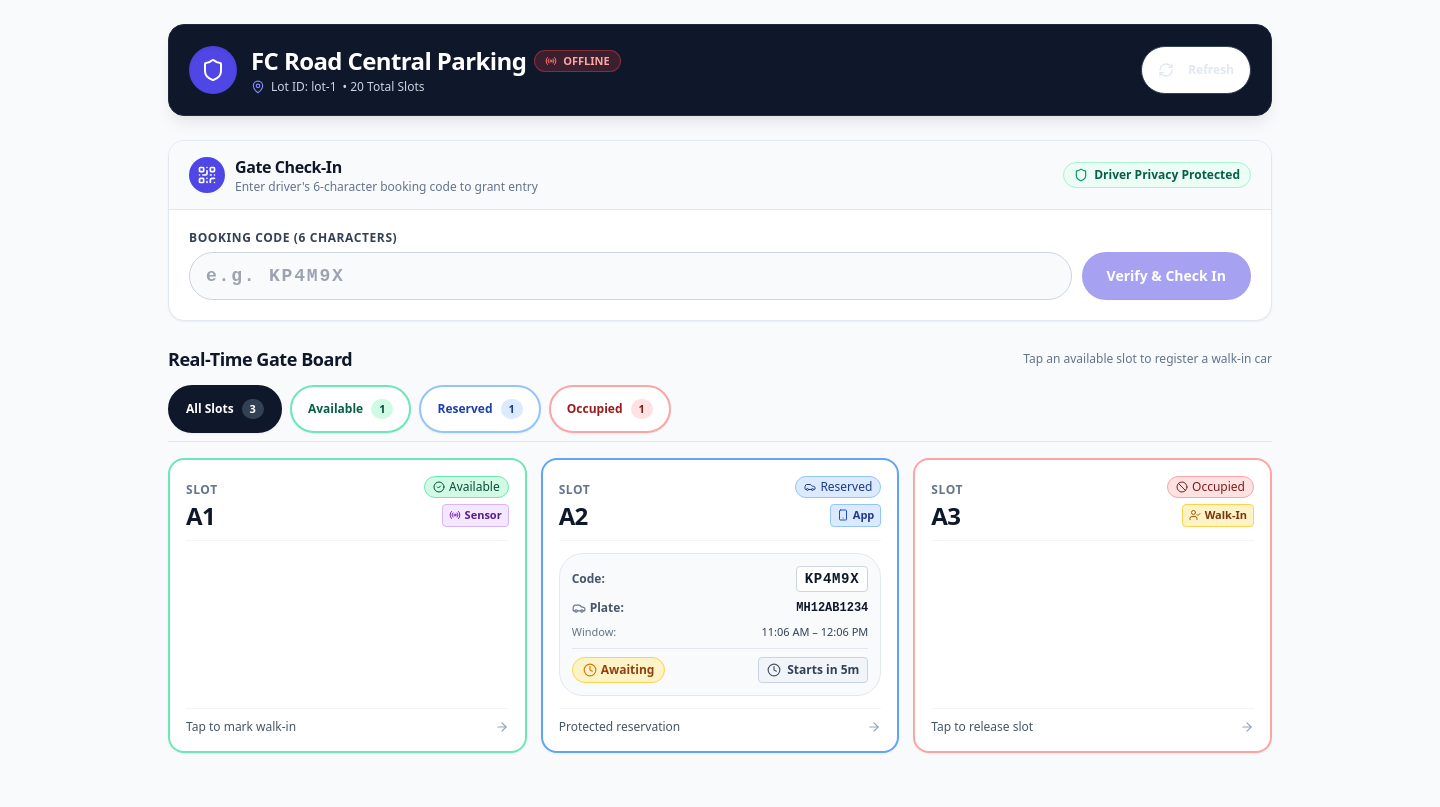
Test: Guard Console UI Suite (Stage 6) › displays 409 error when booking is already checked in or ineligible
Check: the heading "FC Road Central Parking" is shown, box [251,45,526,77]
Type "KP4M9X" into the field labelled "Booking Code (6 Characters)". click: (630, 276)
box: [189,252,1072,300]
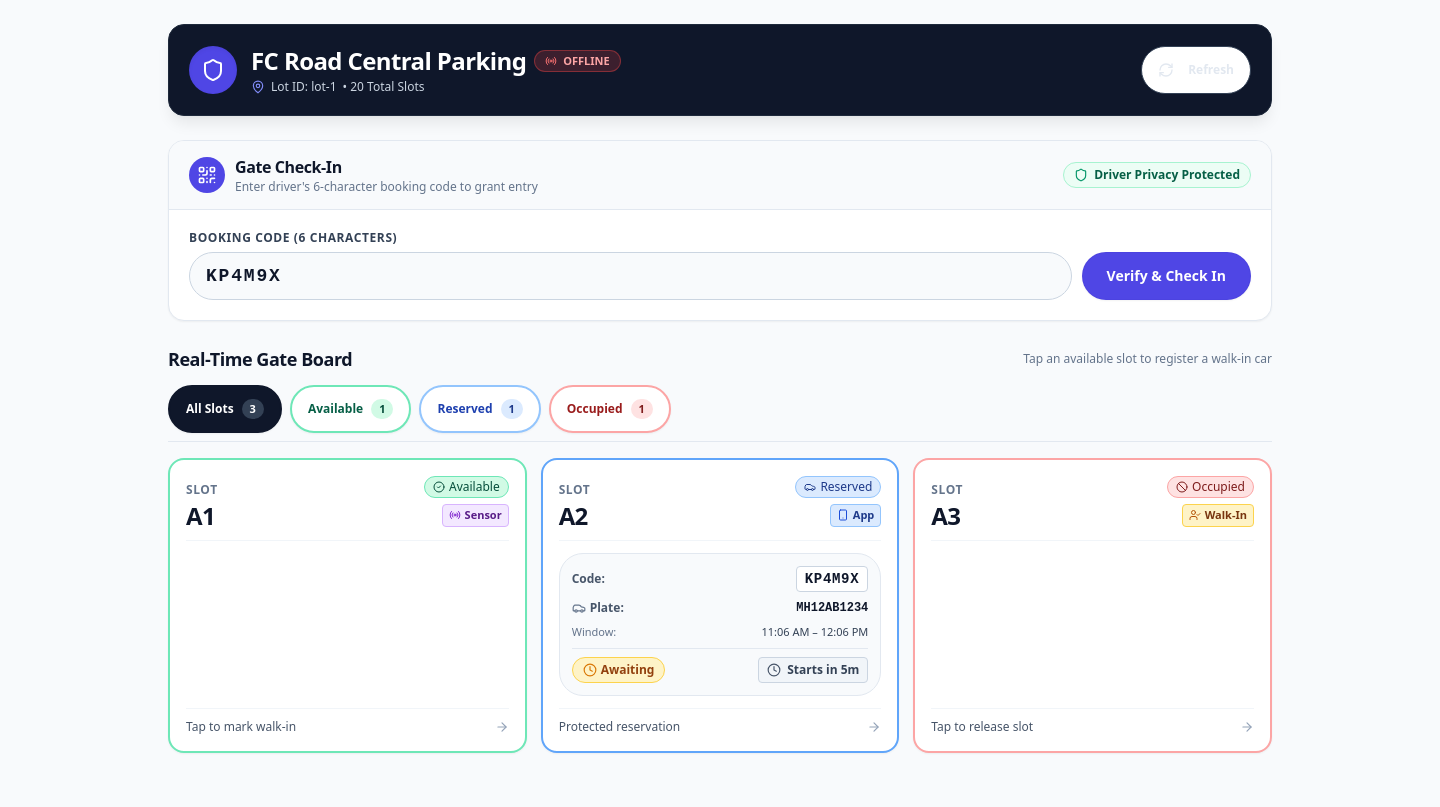
Click the button "Verify & Check In". click: click(1166, 276)
box: [1082,252,1251,300]
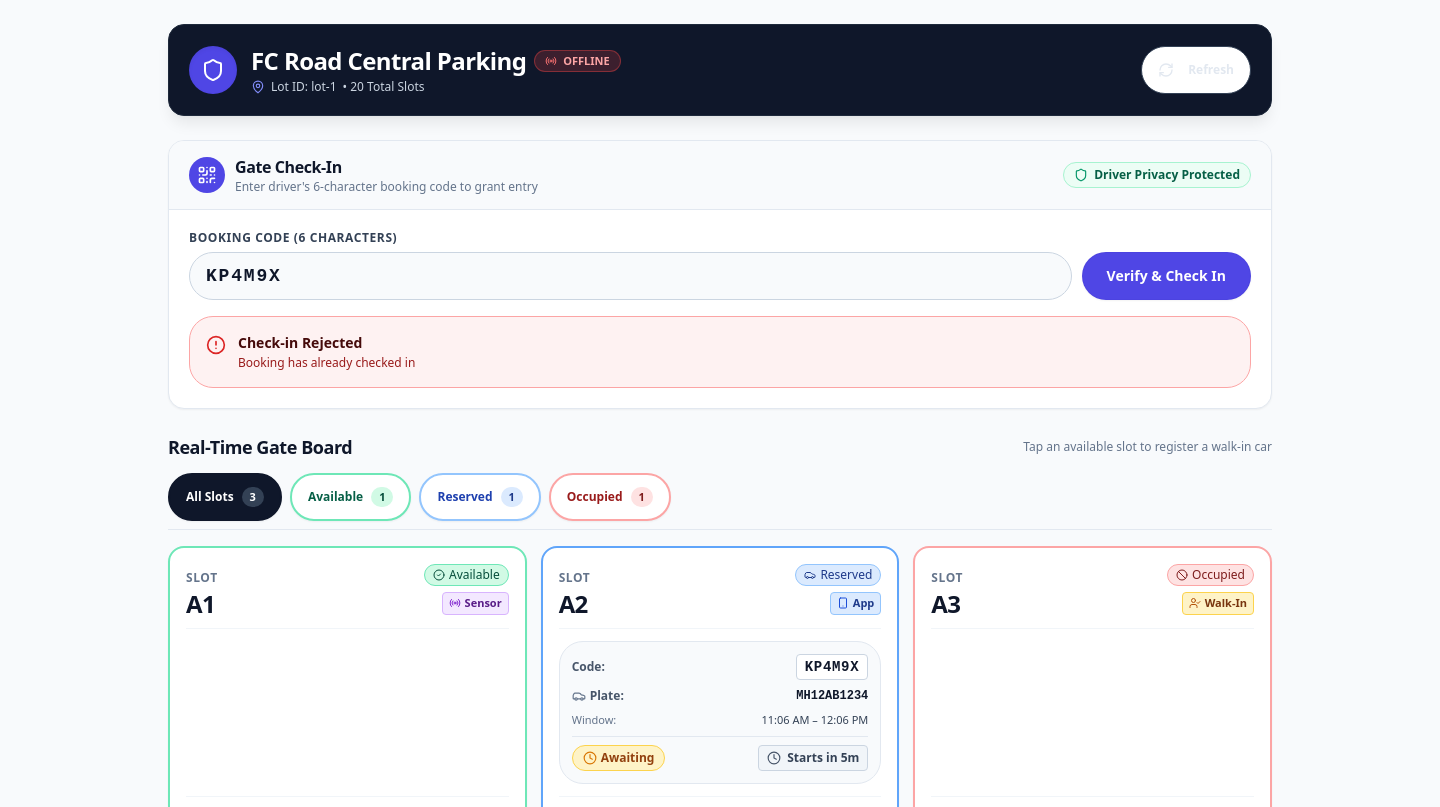
Check: the text "Booking has already checked in" is shown, box [238,355,415,371]
